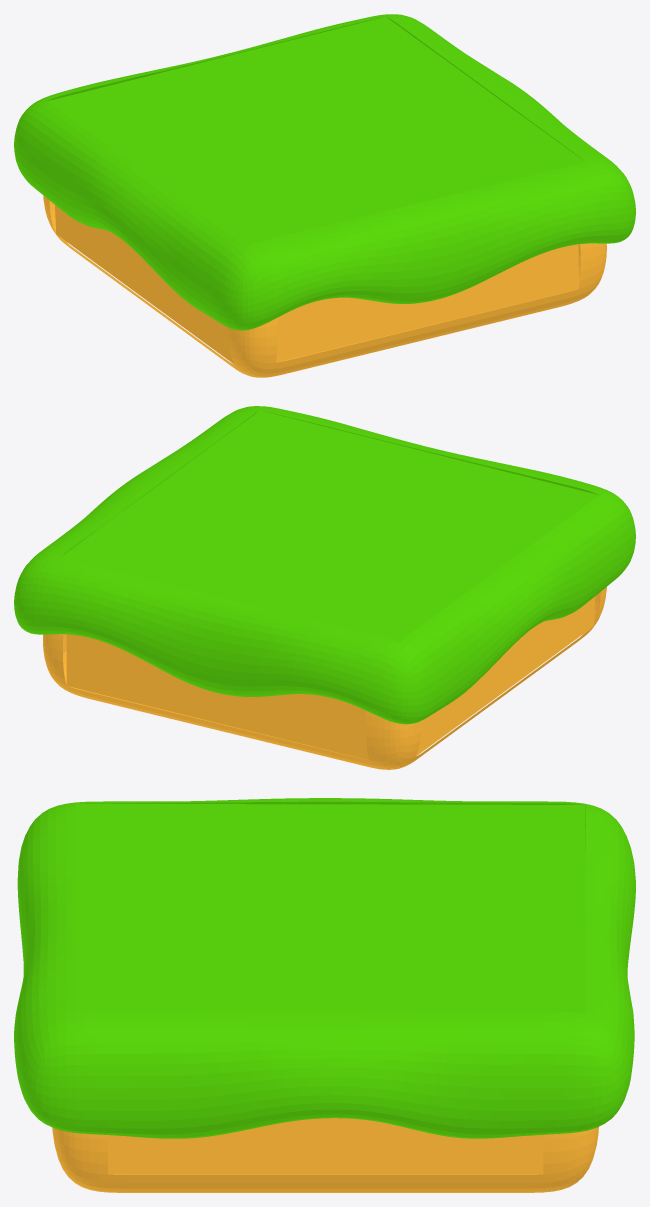
The model's file is cesped.glb.
The picture shows the model from 3 angles, top to bottom: view 1: azimuth 30°, elevation 25°; view 2: azimuth 150°, elevation 25°; view 3: azimuth 270°, elevation 25°; orthographic projection. The views are drawn at different scales.
Visible parts, largest first — view 1: Cube.001, Cube; view 2: Cube.001, Cube; view 3: Cube.001, Cube.
Part boxes in pixels (x1=…): Cube.001: x1=14, y1=14, x2=635, y2=330; Cube: x1=43, y1=195, x2=606, y2=377; Cube.001: x1=14, y1=406, x2=635, y2=724; Cube: x1=43, y1=587, x2=606, y2=769; Cube.001: x1=14, y1=798, x2=635, y2=1138; Cube: x1=52, y1=1118, x2=598, y2=1192.
Bounding box in the file's own units: 7.9 × 2.56 × 7.85.
